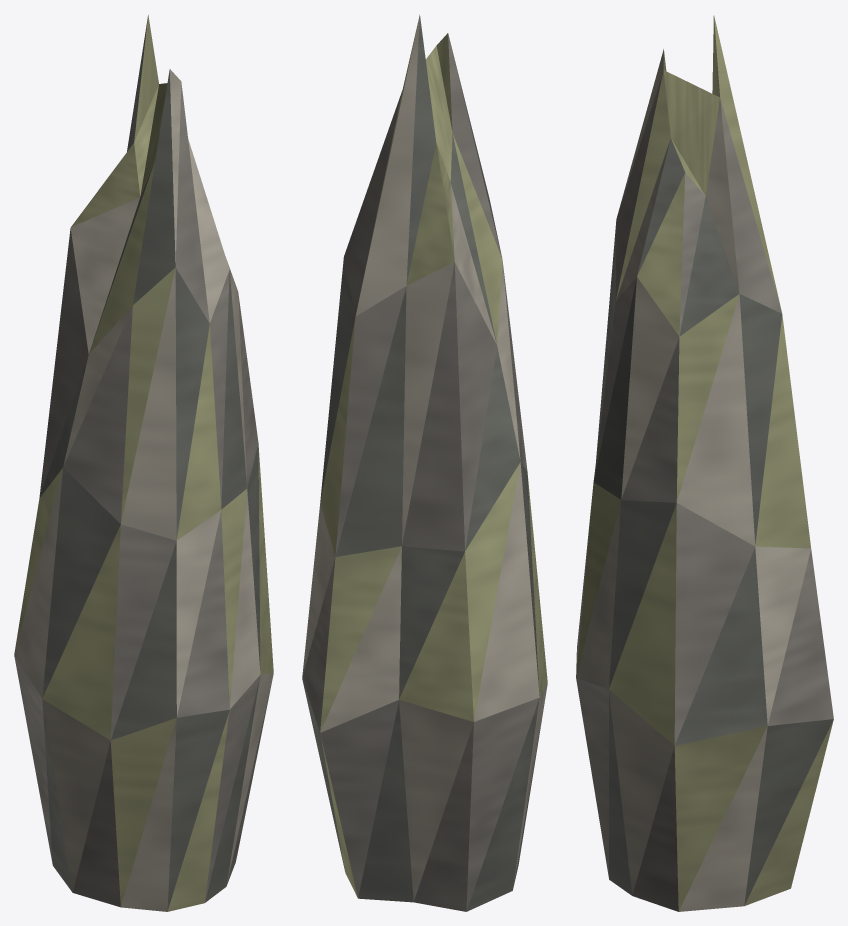
File: rock_spire_02.fbx
3 views of the same model, side by side, from view 1: azimuth 30°, elevation 25°; view 2: azimuth 150°, elevation 25°; view 3: azimuth 270°, elevation 25° (orthographic).
Parts seen in each view (by area): view 1: rock_spire_02; view 2: rock_spire_02; view 3: rock_spire_02.
Boxes of the visible parts, box(x1,y1,x2,y2) form: rock_spire_02: box(14, 15, 273, 911); rock_spire_02: box(302, 14, 547, 911); rock_spire_02: box(576, 15, 833, 911).
Size of the model in its own units: 198 by 739 by 200.
1 material, 1 textured.
